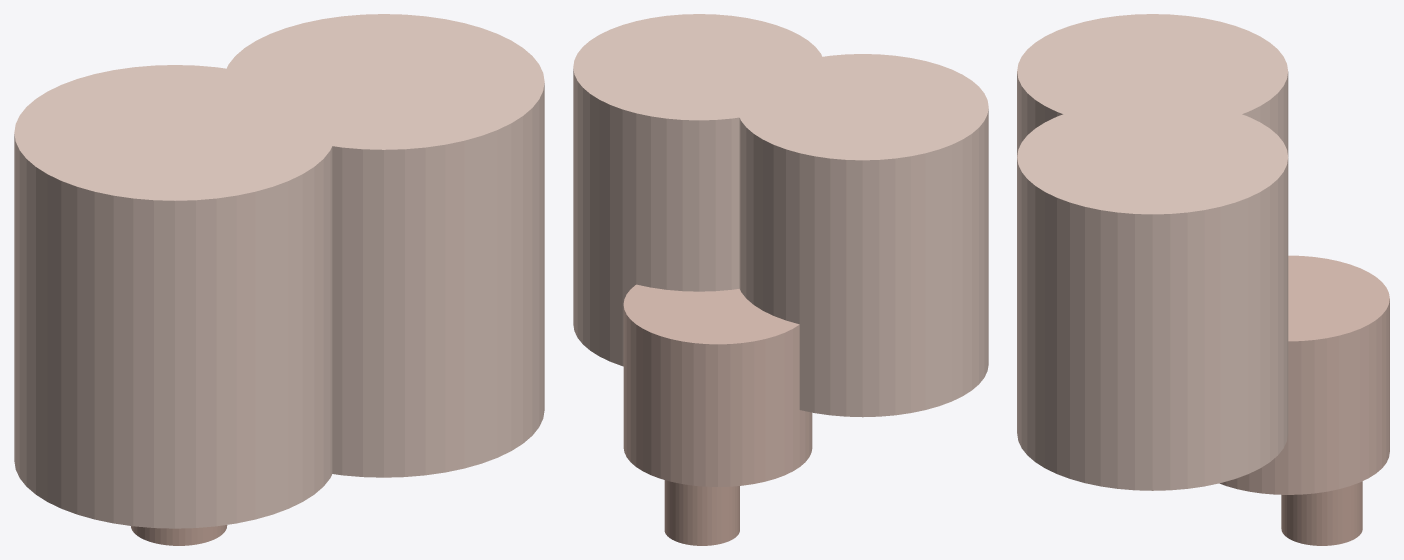
The model's file is brain.glb.
3 views of the same model, side by side, from view 1: azimuth 30°, elevation 25°; view 2: azimuth 150°, elevation 25°; view 3: azimuth 270°, elevation 25° (orthographic). The views are drawn at different scales.
Parts seen in each view (by area): view 1: brain-cerebrum-left, brain-cerebrum-right, brain-stem; view 2: brain-cerebrum-left, brain-cerebrum-right, brain-cerebellum, brain-stem; view 3: brain-cerebrum-right, brain-cerebrum-left, brain-cerebellum, brain-stem.
Part boxes in pixels (x1,y1,x2,y2): brain-cerebrum-left: (14,65,335,528); brain-cerebrum-right: (223,14,544,477); brain-stem: (131,525,227,545); brain-cerebrum-left: (737,54,988,417); brain-cerebrum-right: (573,14,824,366); brain-cerebellum: (623,284,812,486); brain-stem: (664,480,739,545); brain-cerebrum-right: (1017,100,1288,490); brain-cerebrum-left: (1017,14,1288,156); brain-cerebellum: (1219,255,1389,494); brain-stem: (1281,481,1362,545).
Bounding box in the file's own units: 0.07 × 0.0675 × 0.055.
